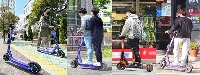bare_head: (88, 6, 98, 16), (77, 7, 87, 16), (40, 8, 51, 16), (174, 9, 186, 16), (125, 8, 134, 17)
human: (168, 9, 190, 64), (123, 9, 143, 64), (78, 9, 94, 64), (88, 7, 103, 65), (39, 9, 53, 50)
kickboard: (3, 52, 41, 73), (160, 57, 191, 72), (73, 57, 106, 71), (117, 58, 152, 71), (36, 43, 65, 58)
